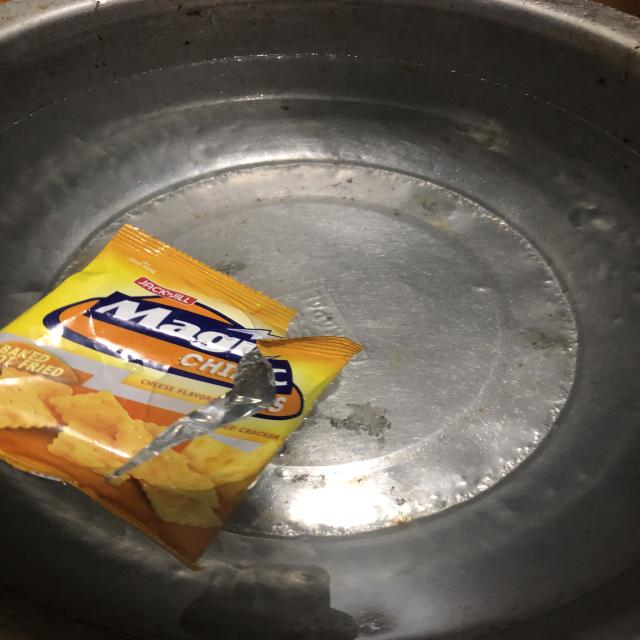Plastic Wrapper: (0, 225, 362, 568)
